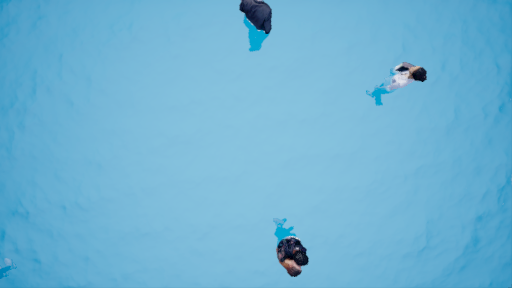person: (371, 59, 427, 111), (273, 215, 313, 280), (236, 1, 275, 53)
